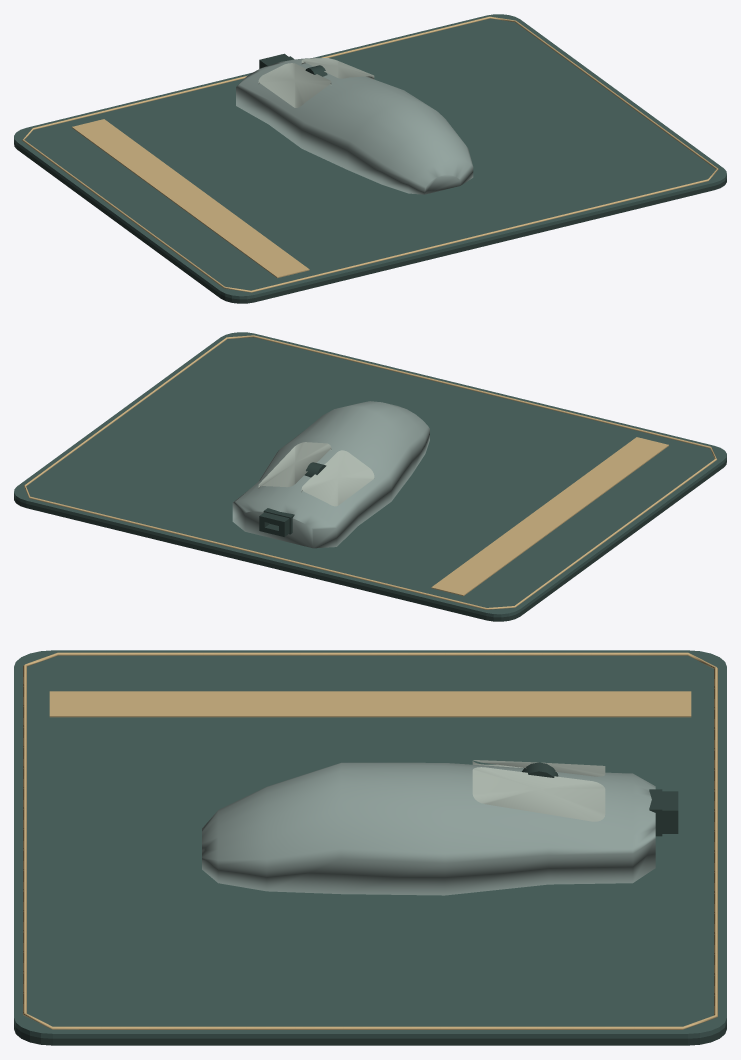
3 views of the same model, one above another, from view 1: azimuth 30°, elevation 25°; view 2: azimuth 150°, elevation 25°; view 3: azimuth 270°, elevation 25° (orthographic). The views are drawn at different scales.
Visible parts, largest first — view 1: pad-fabric-face, mouse-body-ergonomic, pad-woven-inlay, pad-sewn-edge, pad-rubber-base, mouse-button-left, mouse-button-right; view 2: pad-fabric-face, mouse-body-ergonomic, pad-woven-inlay, pad-sewn-edge, pad-rubber-base, mouse-button-left, mouse-button-right; view 3: pad-fabric-face, mouse-body-ergonomic, pad-woven-inlay, pad-sewn-edge, pad-rubber-base, mouse-button-right, mouse-button-left.
Boxes of the visible parts, bbox=[...] form: pad-fabric-face: bbox=[14, 14, 726, 299]; mouse-body-ergonomic: bbox=[236, 57, 473, 194]; pad-woven-inlay: bbox=[72, 119, 309, 277]; pad-sewn-edge: bbox=[22, 16, 718, 292]; pad-rubber-base: bbox=[14, 140, 726, 303]; mouse-button-left: bbox=[258, 63, 331, 107]; mouse-button-right: bbox=[301, 58, 374, 79]; pad-fabric-face: bbox=[14, 332, 726, 617]; mouse-body-ergonomic: bbox=[232, 401, 429, 548]; pad-woven-inlay: bbox=[431, 437, 668, 595]; pad-sewn-edge: bbox=[24, 335, 716, 609]; pad-rubber-base: bbox=[14, 458, 726, 621]; mouse-button-left: bbox=[301, 450, 374, 506]; mouse-button-right: bbox=[258, 442, 331, 488]; pad-fabric-face: bbox=[14, 650, 726, 1038]; mouse-body-ergonomic: bbox=[202, 762, 655, 895]; pad-woven-inlay: bbox=[49, 691, 691, 717]; pad-sewn-edge: bbox=[23, 652, 717, 1029]; pad-rubber-base: bbox=[14, 1023, 726, 1045]; mouse-button-right: bbox=[472, 767, 605, 821]; mouse-button-left: bbox=[472, 760, 605, 776].
Size of the model in its own units: 0.28 by 0.033 by 0.22.
